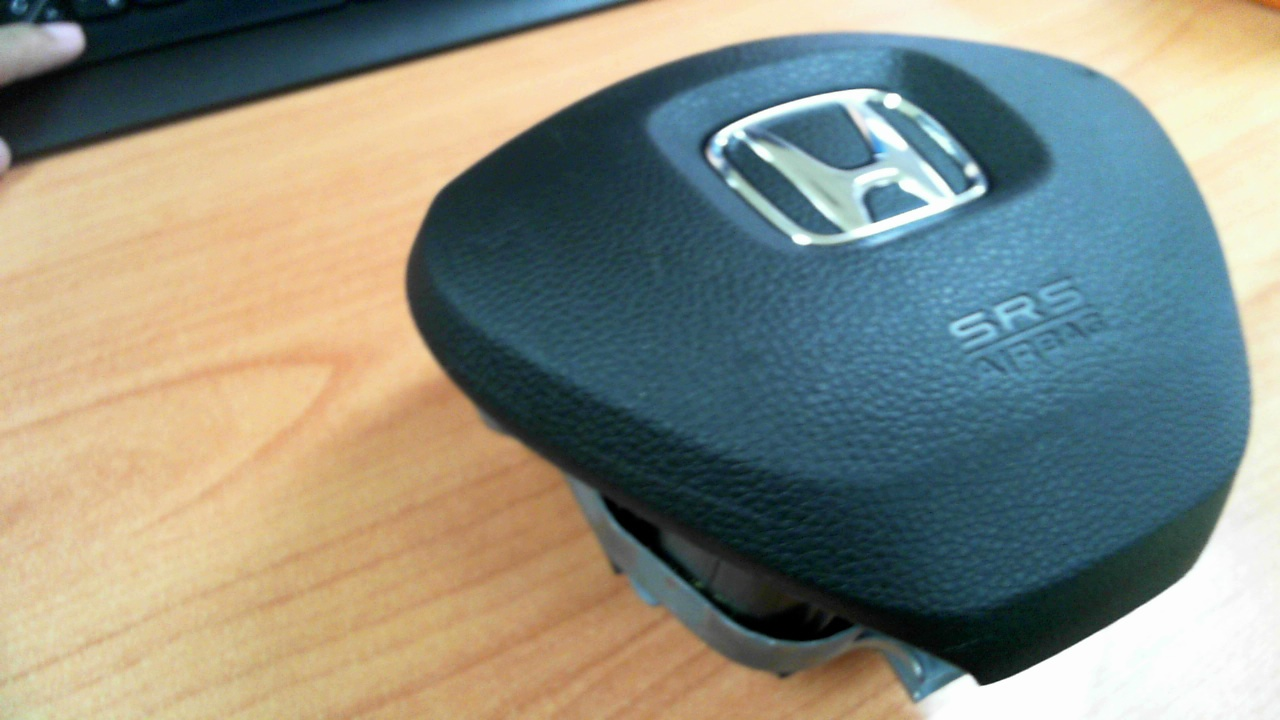Airbag: (406, 30, 1253, 704)
Honda: (705, 88, 987, 247)
